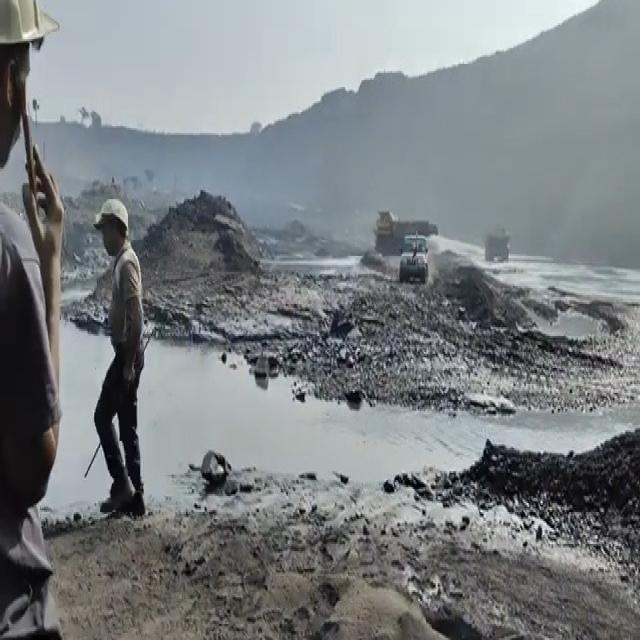light_vehicle: (400, 234, 431, 287)
